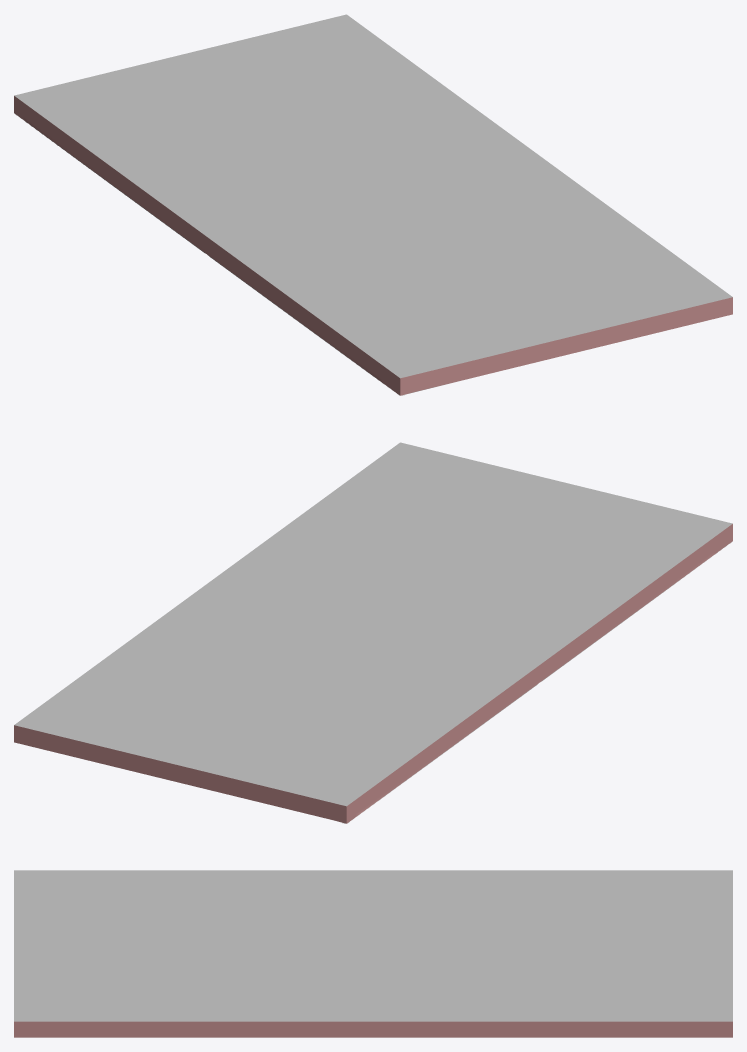
File: 21a96bfe-1d2f-4913-a727-8c72a07cf272-003cfd4c.glb
The picture shows the model from 3 angles, top to bottom: view 1: azimuth 30°, elevation 25°; view 2: azimuth 150°, elevation 25°; view 3: azimuth 270°, elevation 25°; orthographic projection. The views are drawn at different scales.
Parts seen in each view (by area): view 1: sopnet4; view 2: sopnet4; view 3: sopnet4.
Part boxes in pixels (bbox=[...]): sopnet4: bbox=[14, 14, 732, 395]; sopnet4: bbox=[14, 442, 732, 823]; sopnet4: bbox=[14, 870, 732, 1037].
Size of the model in its own units: 3.66 by 0.37 by 7.36.
